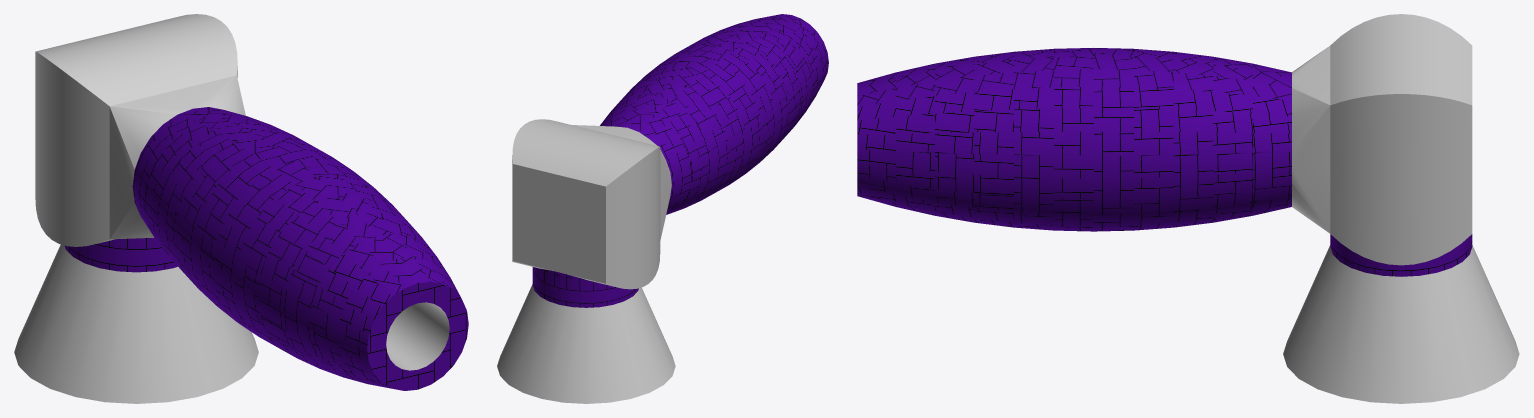
Rendered from DragonSwivel2.dae.
The picture shows the model from 3 angles, left to right: view 1: azimuth 30°, elevation 25°; view 2: azimuth 150°, elevation 25°; view 3: azimuth 270°, elevation 25°; orthographic projection. The views are drawn at different scales.
Visible parts, largest first — view 1: SketchUp (×5); view 2: SketchUp (×4); view 3: SketchUp (×4).
Boxes of the visible parts, box(x1,y1,x2,y2) form: SketchUp (×5): box(14, 14, 468, 403); SketchUp (×4): box(497, 14, 828, 403); SketchUp (×4): box(857, 14, 1519, 403).
Size of the model in its own units: 1.97 by 5.51 by 2.76.
